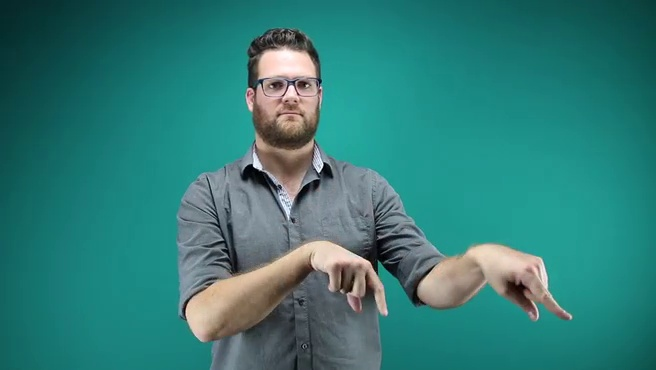go: (318, 234, 576, 327)
